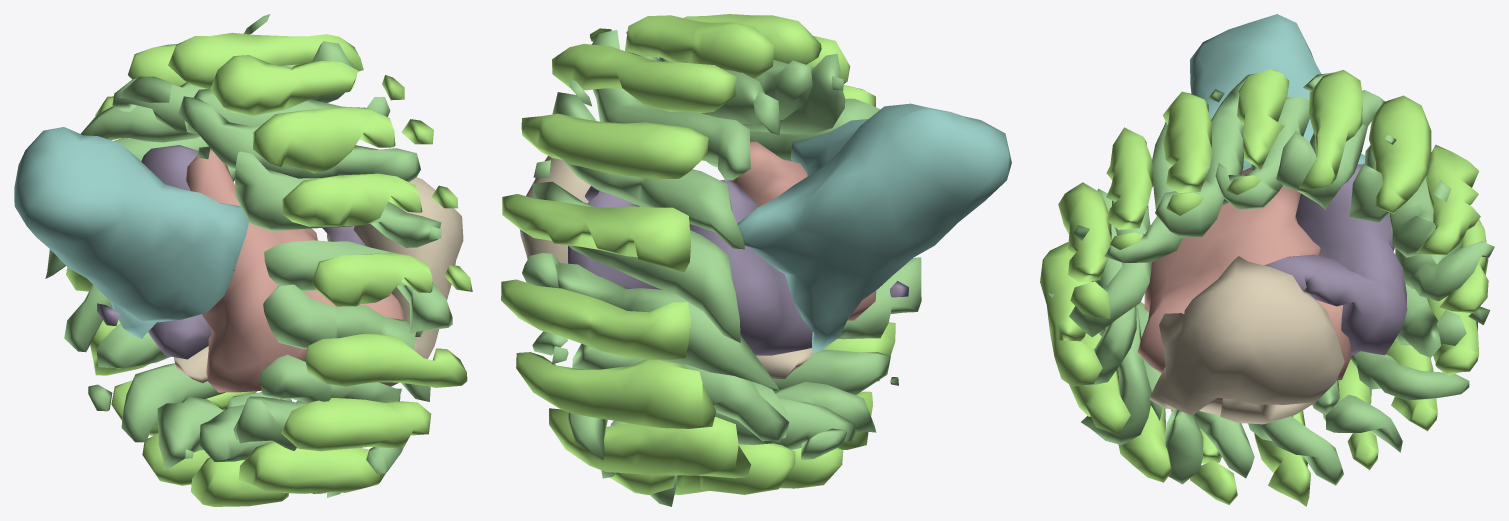
The model's file is 3wmo.obj.
The picture shows the model from 3 angles, left to right: view 1: azimuth 30°, elevation 25°; view 2: azimuth 150°, elevation 25°; view 3: azimuth 270°, elevation 25°; orthographic projection. The views are drawn at different scales.
Visible parts, largest first — view 1: 3wmo_surfaces_1.C, 3wmo_surfaces_1.L, 3wmo_surfaces_1.2, 3wmo_surfaces_1.8, 3wmo_surfaces_1.Z, 3wmo_surfaces_1.0, 3wmo_surfaces_1.4, 3wmo_surfaces_1.7, 3wmo_surfaces_1.B, 3wmo_surfaces_1.3, 3wmo_surfaces_1.1, 3wmo_surfaces_1.H (+20 smaller); view 2: 3wmo_surfaces_1.C, 3wmo_surfaces_1.P, 3wmo_surfaces_1.M, 3wmo_surfaces_1.R, 3wmo_surfaces_1.T, 3wmo_surfaces_1.V, 3wmo_surfaces_1.N, 3wmo_surfaces_1.X, 3wmo_surfaces_1.Q, 3wmo_surfaces_1.S, 3wmo_surfaces_1.U, 3wmo_surfaces_1.Z (+18 smaller); view 3: 3wmo_surfaces_1.H, 3wmo_surfaces_1.M, 3wmo_surfaces_1.L, 3wmo_surfaces_1.C, 3wmo_surfaces_1.V, 3wmo_surfaces_1.6, 3wmo_surfaces_1.2, 3wmo_surfaces_1.X, 3wmo_surfaces_1.1, 3wmo_surfaces_1.8, 3wmo_surfaces_1.T, 3wmo_surfaces_1.4 (+24 smaller).
Boxes of the visible parts, left/top/right/bottom form: 3wmo_surfaces_1.C: left=14, top=127, right=248, bottom=338; 3wmo_surfaces_1.L: left=186, top=149, right=405, bottom=392; 3wmo_surfaces_1.2: left=253, top=107, right=433, bottom=173; 3wmo_surfaces_1.8: left=305, top=333, right=467, bottom=387; 3wmo_surfaces_1.Z: left=210, top=55, right=404, bottom=115; 3wmo_surfaces_1.0: left=281, top=398, right=431, bottom=451; 3wmo_surfaces_1.4: left=282, top=173, right=458, bottom=226; 3wmo_surfaces_1.7: left=233, top=269, right=430, bottom=401; 3wmo_surfaces_1.B: left=238, top=441, right=386, bottom=493; 3wmo_surfaces_1.3: left=197, top=146, right=441, bottom=247; 3wmo_surfaces_1.1: left=178, top=96, right=420, bottom=181; 3wmo_surfaces_1.H: left=174, top=177, right=463, bottom=386; 3wmo_surfaces_1.C: left=737, top=103, right=1011, bottom=353; 3wmo_surfaces_1.P: left=516, top=352, right=716, bottom=428; 3wmo_surfaces_1.M: left=568, top=179, right=908, bottom=355; 3wmo_surfaces_1.R: left=501, top=279, right=690, bottom=359; 3wmo_surfaces_1.T: left=502, top=194, right=690, bottom=272; 3wmo_surfaces_1.V: left=521, top=113, right=708, bottom=179; 3wmo_surfaces_1.N: left=549, top=408, right=750, bottom=478; 3wmo_surfaces_1.X: left=552, top=44, right=736, bottom=113; 3wmo_surfaces_1.Q: left=522, top=252, right=778, bottom=389; 3wmo_surfaces_1.S: left=532, top=160, right=740, bottom=342; 3wmo_surfaces_1.U: left=552, top=78, right=744, bottom=249; 3wmo_surfaces_1.Z: left=590, top=15, right=774, bottom=78; 3wmo_surfaces_1.H: left=1150, top=256, right=1344, bottom=424; 3wmo_surfaces_1.M: left=1264, top=164, right=1407, bottom=355; 3wmo_surfaces_1.L: left=1137, top=167, right=1350, bottom=400; 3wmo_surfaces_1.C: left=1190, top=14, right=1365, bottom=170; 3wmo_surfaces_1.V: left=1369, top=95, right=1431, bottom=213; 3wmo_surfaces_1.6: left=1058, top=182, right=1111, bottom=318; 3wmo_surfaces_1.2: left=1162, top=91, right=1212, bottom=215; 3wmo_surfaces_1.X: left=1299, top=70, right=1362, bottom=189; 3wmo_surfaces_1.1: left=1155, top=73, right=1256, bottom=237; 3wmo_surfaces_1.8: left=1040, top=242, right=1102, bottom=386; 3wmo_surfaces_1.T: left=1415, top=145, right=1480, bottom=255; 3wmo_surfaces_1.4: left=1106, top=127, right=1153, bottom=249.
Size of the model in its own units: 120 by 115 by 117.
